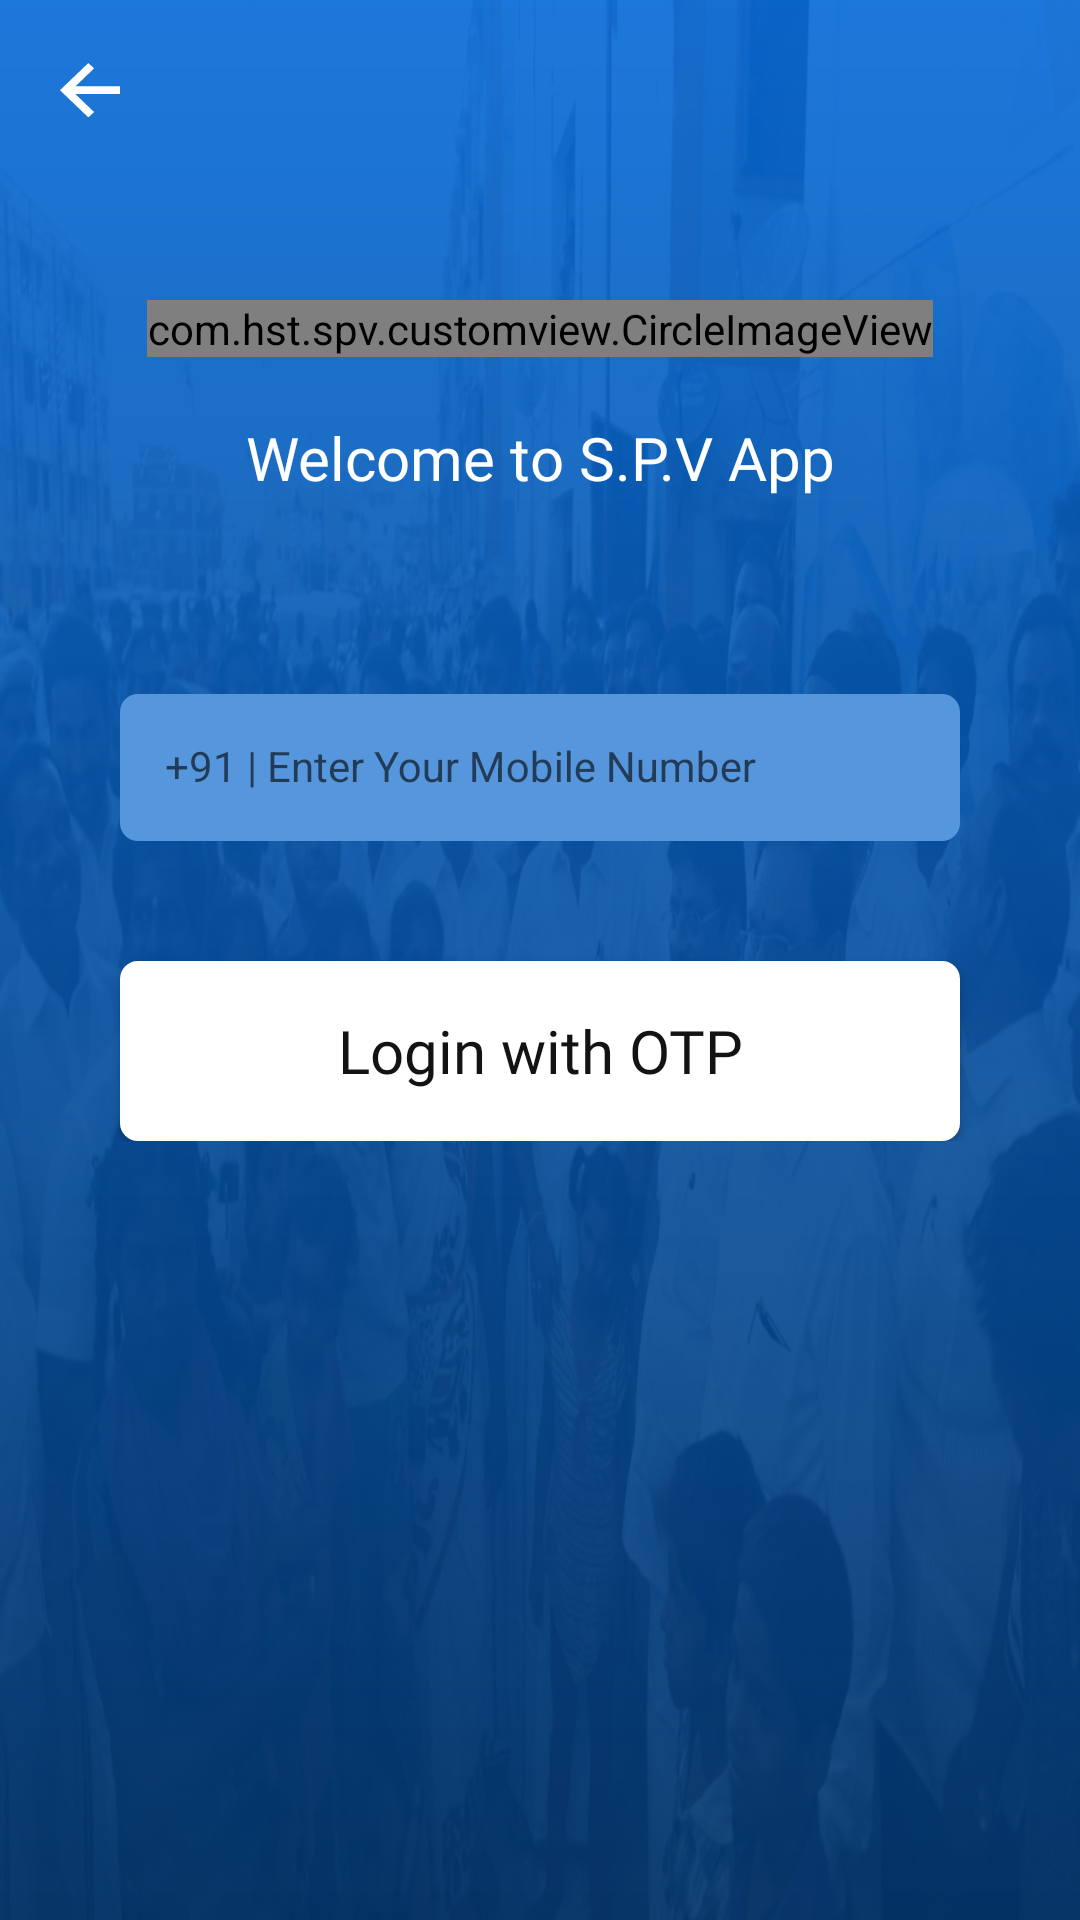

Named icons in this screenshot (1080w x 1920h) and their bounding boxes, (x1, y1, x2, y2):
left arrow: (60, 63, 120, 117)
